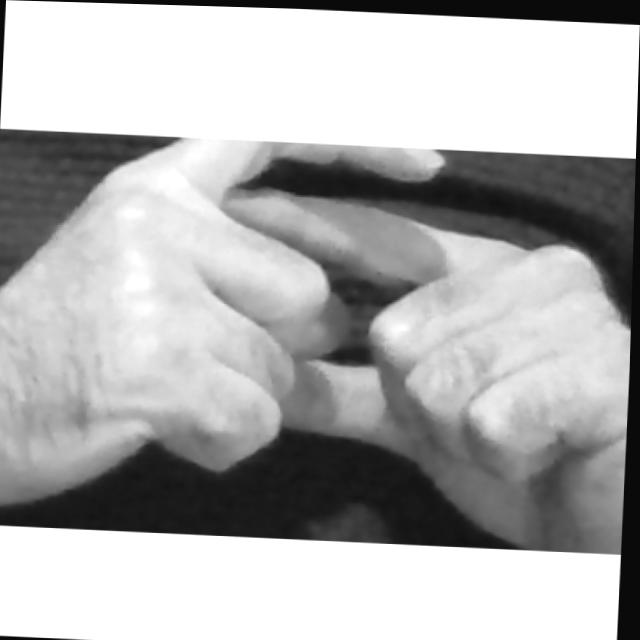G-: (0, 128, 636, 554)
